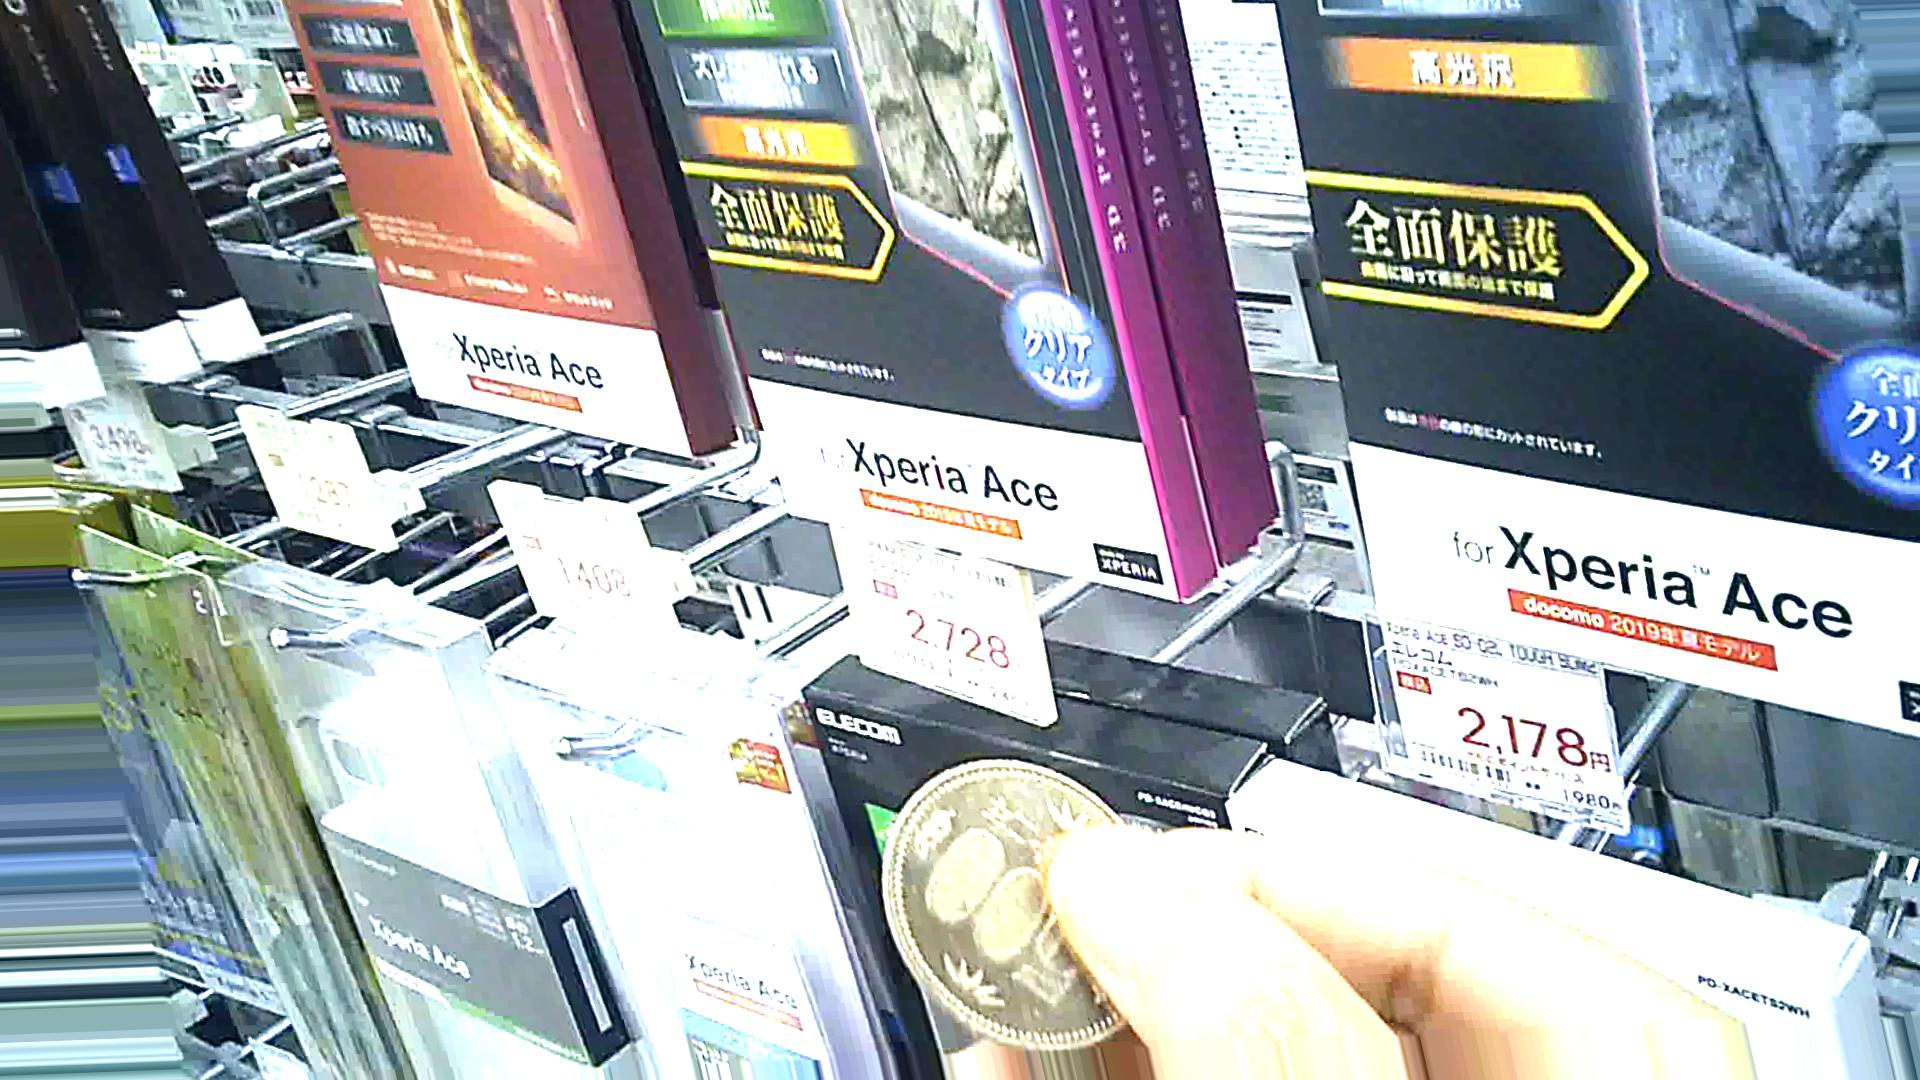500 Yen: (873, 754, 1147, 1067)
